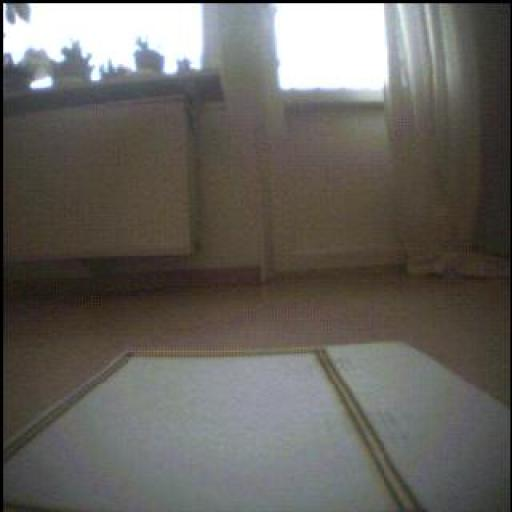Pad: (4, 345, 492, 512)
